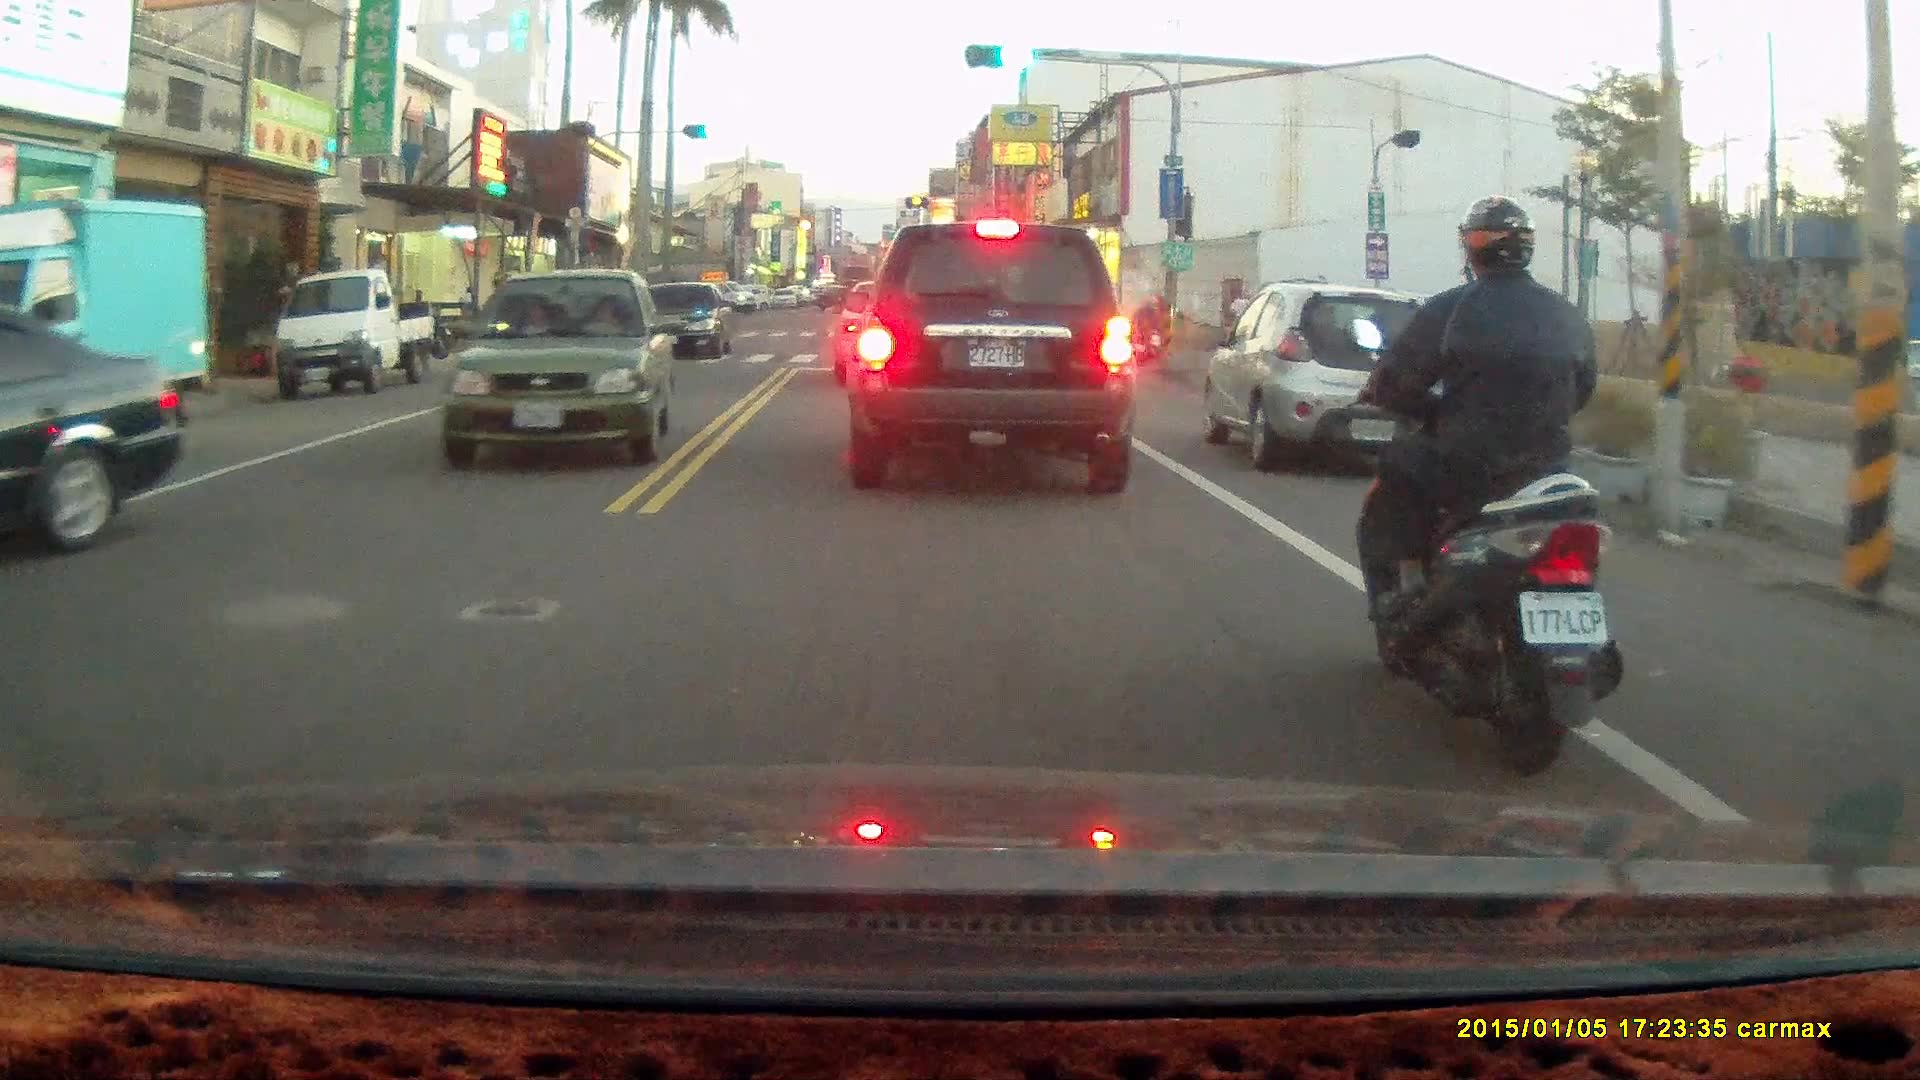pedestrian: (1224, 286, 1253, 359)
rider: (1347, 196, 1629, 784), (1130, 292, 1174, 367)
vehicle: (846, 223, 1140, 495), (0, 196, 215, 445), (1202, 283, 1473, 479), (1, 306, 185, 558), (444, 267, 675, 464), (269, 268, 439, 400), (629, 282, 736, 364)
